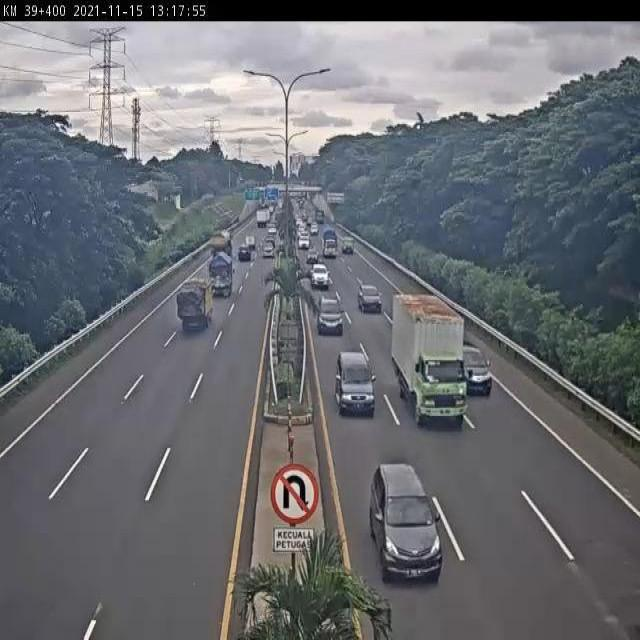car: (367, 461, 445, 583), (333, 351, 376, 416), (462, 343, 493, 396), (316, 296, 344, 339), (355, 281, 384, 316), (310, 262, 331, 290)
truck: (388, 288, 470, 428), (175, 277, 215, 332), (207, 252, 235, 299)
